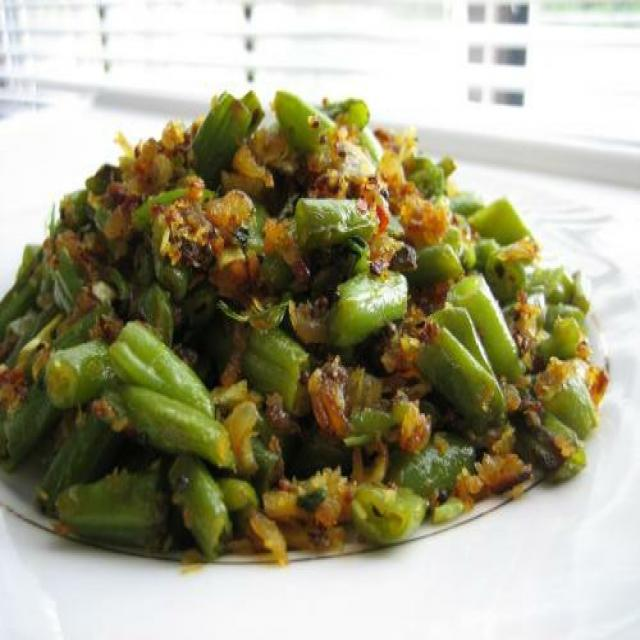BhindiMasala: (0, 90, 611, 566)
